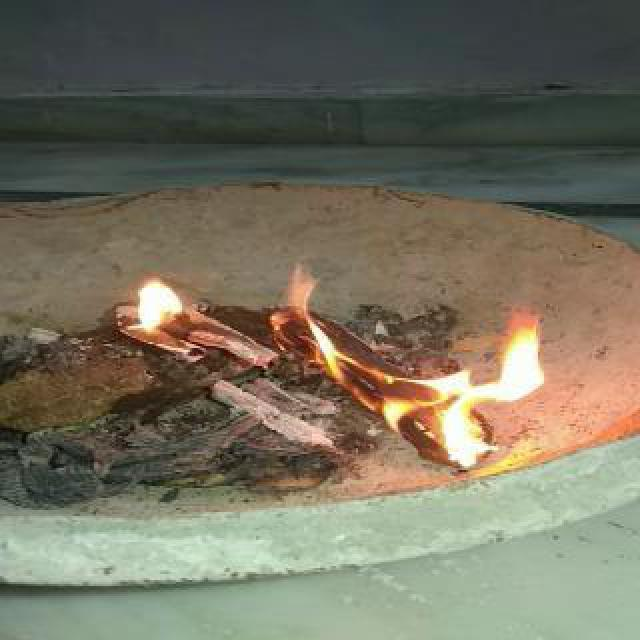Fire: (274, 262, 552, 472), (102, 272, 210, 346)
